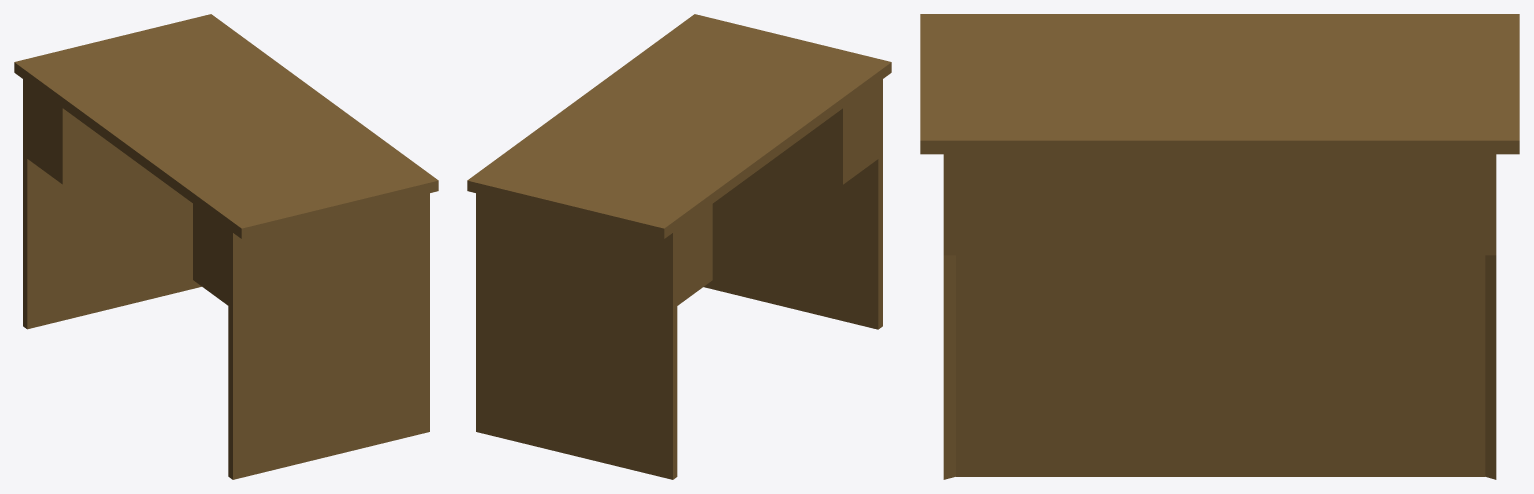
File: desk.fbx
3 renders of one model, left to right at view 1: azimuth 30°, elevation 25°; view 2: azimuth 150°, elevation 25°; view 3: azimuth 270°, elevation 25°, orthographic. The views are drawn at different scales.
Parts seen in each view (by area): view 1: Cube.552; view 2: Cube.552; view 3: Cube.552.
Boxes of the visible parts, box(x1,y1,x2,y2) form: Cube.552: box(14, 14, 438, 479); Cube.552: box(467, 14, 891, 479); Cube.552: box(920, 14, 1519, 479).
Size of the model in its own units: 60 by 75 by 120.
